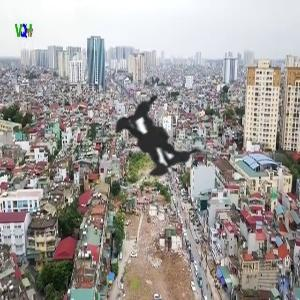drone: (30, 23, 283, 276)
